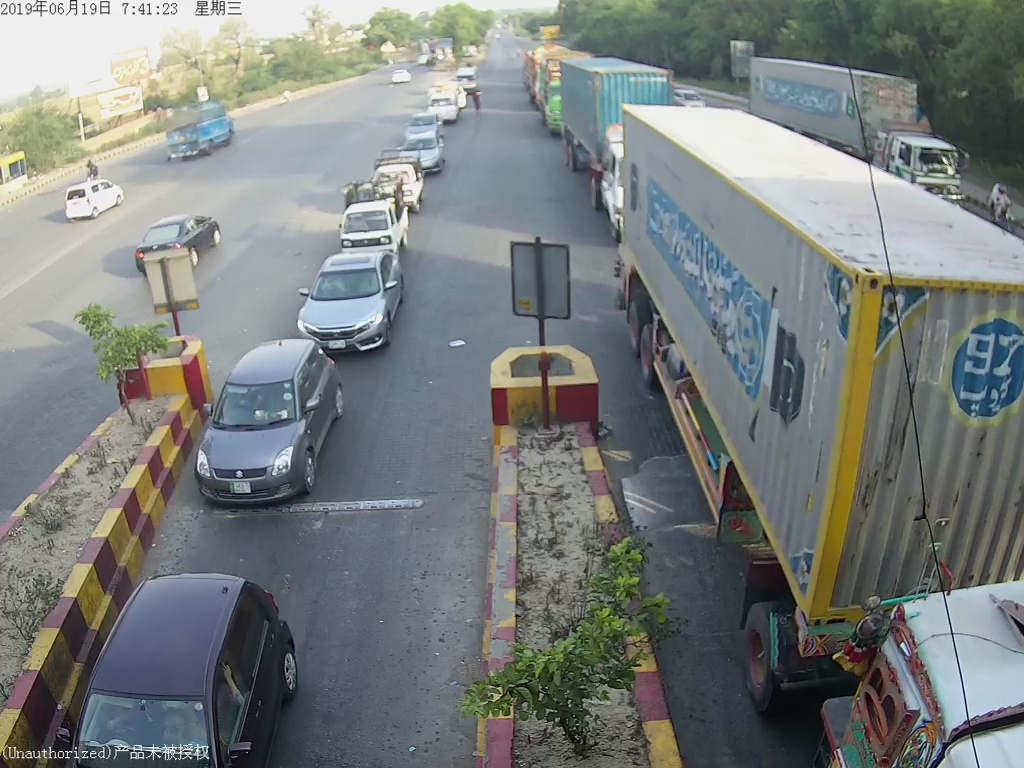Cat-1: (200, 341, 355, 510), (295, 254, 416, 354), (334, 190, 414, 246)
